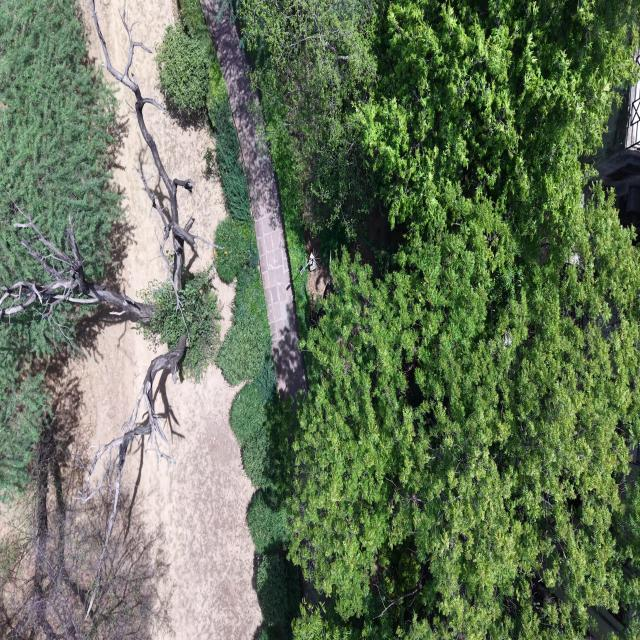DRY_AREA: (201, 0, 306, 396), (125, 366, 260, 639)
VEGETATION_TREE: (158, 0, 639, 639), (239, 0, 639, 638), (240, 0, 639, 638), (290, 192, 638, 637), (6, 0, 221, 619), (0, 0, 165, 638), (177, 0, 300, 638), (209, 93, 300, 637), (3, 3, 119, 370), (0, 416, 169, 639), (172, 0, 270, 384), (0, 0, 120, 283), (0, 2, 120, 284), (239, 0, 380, 240), (207, 75, 272, 384), (230, 352, 300, 638), (231, 363, 301, 639), (208, 75, 257, 282), (264, 127, 310, 335), (139, 268, 220, 381), (270, 129, 311, 336), (207, 75, 252, 224), (0, 356, 48, 492), (217, 264, 270, 385), (156, 25, 209, 114), (230, 384, 268, 487), (257, 555, 299, 626), (216, 217, 256, 282), (248, 492, 287, 555), (293, 606, 351, 639)
